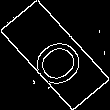O_NE: (20, 22, 90, 88)
